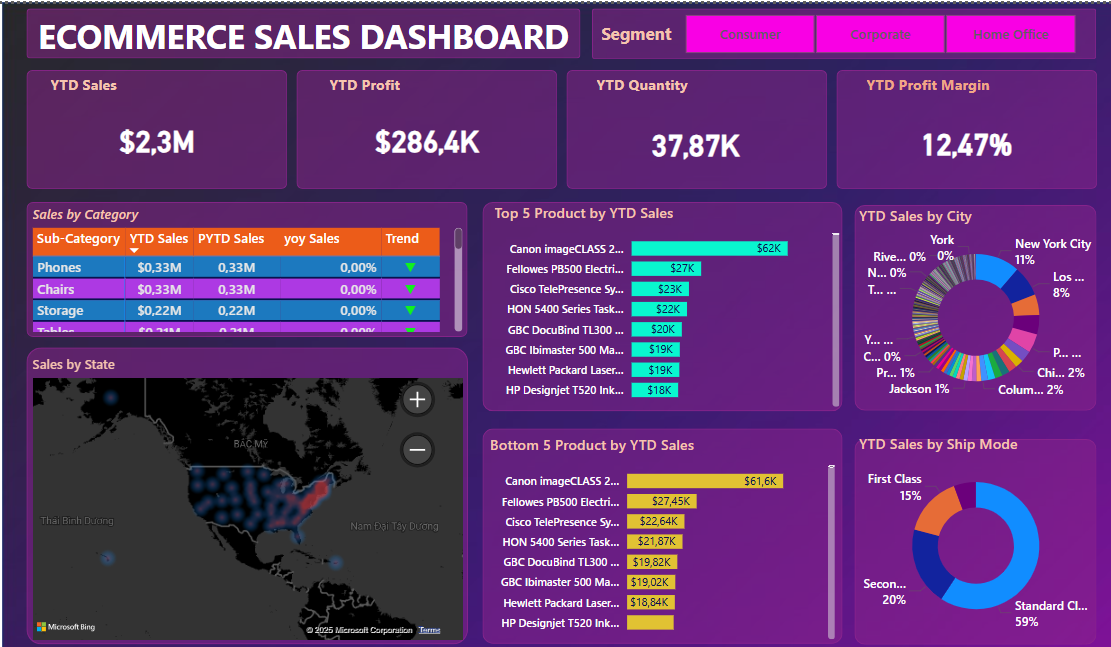

The dashboard page shown, as its layout file describes it:
{"tool":"powerbi","page":{"name":"Page 1","canvas":[1280,720],"ordinal":0},"visuals":[{"type":"shape","box":[954.4,73.5,289.7,132.2],"z":0},{"type":"shape","box":[654.4,73.5,289.7,132.2],"z":2000},{"type":"shape","box":[354.4,73.5,289.7,132.2],"z":4000},{"type":"shape","box":[54.4,5.7,615.6,55.6],"z":5000},{"type":"textbox","box":[54.4,5.7,615.6,78.9],"z":6000},{"type":"shape","box":[54.4,73.5,289.7,132.2],"z":7000},{"type":"card","fields":{"Values":["ecommerce_data.YTD Sales"]},"box":[54.4,95,289.2,110.5],"z":8000},{"type":"textbox","box":[77.4,73.5,106.9,36.8],"z":13000},{"type":"card","fields":{"Values":["ecommerce_data.YTD Profit"]},"box":[354.2,95,289.2,110.5],"z":14000},{"type":"textbox","box":[386.8,73.3,112.2,36.5],"z":19000},{"type":"areaChart","fields":{"Category":["calenders.Months"],"Y":["Sum(data.Quantity)"]},"box":[654.4,137.9,289.7,65.5],"z":20000},{"type":"areaChart","fields":{"Category":["calenders.Months"],"Y":["ecommerce_data.Profit Margin"]},"box":[954.4,140.2,289.7,65.5],"z":21000},{"type":"card","fields":{"Values":["ecommerce_data.YTD Qnt"]},"box":[654,102.6,289.2,103],"z":22000},{"type":"card","fields":{"Values":["ecommerce_data.YTD PM"]},"box":[953.8,102.6,290.7,99.9],"z":23000},{"type":"textbox","box":[684.1,73.3,125.7,36.5],"z":28000},{"type":"textbox","box":[984.1,73.3,186.5,37.8],"z":29000},{"type":"shape","box":[54.4,219.2,490,150],"z":30000},{"type":"pivotTable","title":"Sales by Category","fields":{"Values":["ecommerce_data.YTD Sales","ecommerce_data.PYTD Sales","ecommerce_data.yoy Sales","ecommerce_data.Sales Icon"],"Rows":["data.Sub-Category"]},"box":[57.1,223.3,487.8,145.9],"z":31000},{"type":"shape","box":[54.4,381.4,490.5,329.7],"z":32000},{"type":"map","title":"Sales by State","fields":{"X":["us_state_long_lat_codes.longitude"],"Y":["us_state_long_lat_codes.latitude"],"Size":["ecommerce_data.YTD Sales"]},"box":[57.1,389.5,487.8,321.6],"z":33000},{"type":"shape","box":[562.5,219.2,400,232.4],"z":34000},{"type":"shape","box":[562.5,471.9,400,239.2],"z":35000},{"type":"barChart","title":"Top 5 Product by YTD Sales ","fields":{"Y":["ecommerce_data.YTD Sales"],"Category":["data.Product Name"]},"box":[569.2,219.2,393.2,232.4],"z":36000},{"type":"barChart","title":"Bottom 5 Product by YTD Sales ","fields":{"Y":["ecommerce_data.YTD Sales"],"Category":["data.Product Name"]},"box":[565.2,478.7,393.2,232.4],"z":37000},{"type":"shape","box":[974.7,223.3,268.9,228.4],"z":38000},{"type":"shape","box":[974.7,482.7,268.9,228.4],"z":39000},{"type":"donutChart","fields":{"Y":["ecommerce_data.YTD Sales"],"Category":["data.City"]},"box":[974.7,223.3,268.9,228.4],"z":40000},{"type":"donutChart","fields":{"Y":["ecommerce_data.YTD Sales"],"Category":["data.Ship Mode"]},"box":[974.7,477.3,268.9,228.4],"z":41000},{"type":"shape","box":[683.7,5.7,560.2,56.2],"z":42000},{"type":"slicer","fields":{"Values":["data.Segment"]},"box":[761.4,5.7,482.4,56.2],"z":43000},{"type":"textbox","box":[683.7,15.8,126.7,36],"z":44000}]}

Visuals, with their boxes on the page's 1280x720 design canvas (x1, y1, x2, y2). These are canvas units, not pixel positions in the 1111x647 screenshot, which may show the page scaled, cropped or inside an application window:
shape: [954,74,1244,206]
shape: [654,74,944,206]
shape: [354,74,644,206]
shape: [54,6,670,61]
textbox: [54,6,670,85]
shape: [54,74,344,206]
card - ecommerce_data.YTD Sales: [54,95,344,206]
textbox: [77,74,184,110]
card - ecommerce_data.YTD Profit: [354,95,643,206]
textbox: [387,73,499,110]
areaChart - calenders.Months x Sum(data.Quantity): [654,138,944,203]
areaChart - calenders.Months x ecommerce_data.Profit Margin: [954,140,1244,206]
card - ecommerce_data.YTD Qnt: [654,103,943,206]
card - ecommerce_data.YTD PM: [954,103,1244,202]
textbox: [684,73,810,110]
textbox: [984,73,1171,111]
shape: [54,219,544,369]
"Sales by Category" pivotTable: [57,223,545,369]
shape: [54,381,545,711]
"Sales by State" map: [57,390,545,711]
shape: [562,219,962,452]
shape: [562,472,962,711]
"Top 5 Product by YTD Sales " barChart: [569,219,962,452]
"Bottom 5 Product by YTD Sales " barChart: [565,479,958,711]
shape: [975,223,1244,452]
shape: [975,483,1244,711]
donutChart - ecommerce_data.YTD Sales x data.City: [975,223,1244,452]
donutChart - ecommerce_data.YTD Sales x data.Ship Mode: [975,477,1244,706]
shape: [684,6,1244,62]
slicer - data.Segment: [761,6,1244,62]
textbox: [684,16,810,52]
